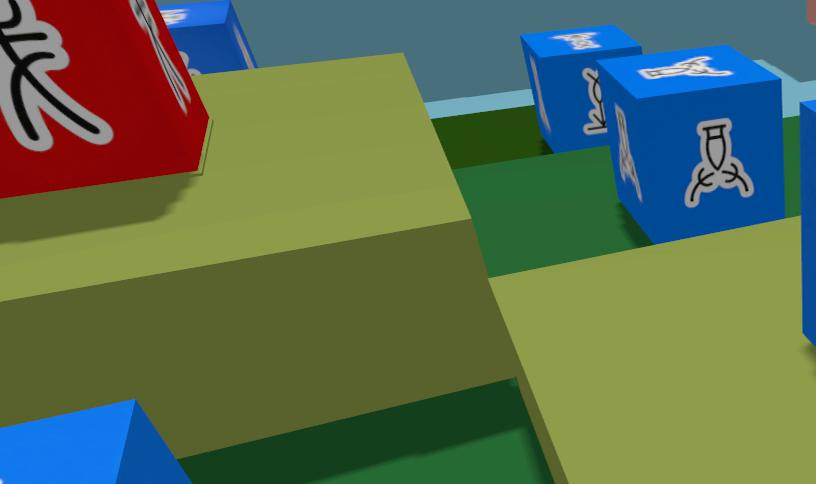KFS_FAKE: (0, 0, 112, 152)
KFS_REAL: (599, 45, 784, 242), (0, 400, 191, 483), (520, 24, 641, 151), (159, 0, 257, 74), (685, 119, 754, 207), (800, 101, 815, 347), (801, 103, 815, 348), (614, 105, 642, 200), (638, 55, 731, 79), (582, 68, 605, 134), (554, 32, 600, 49)
